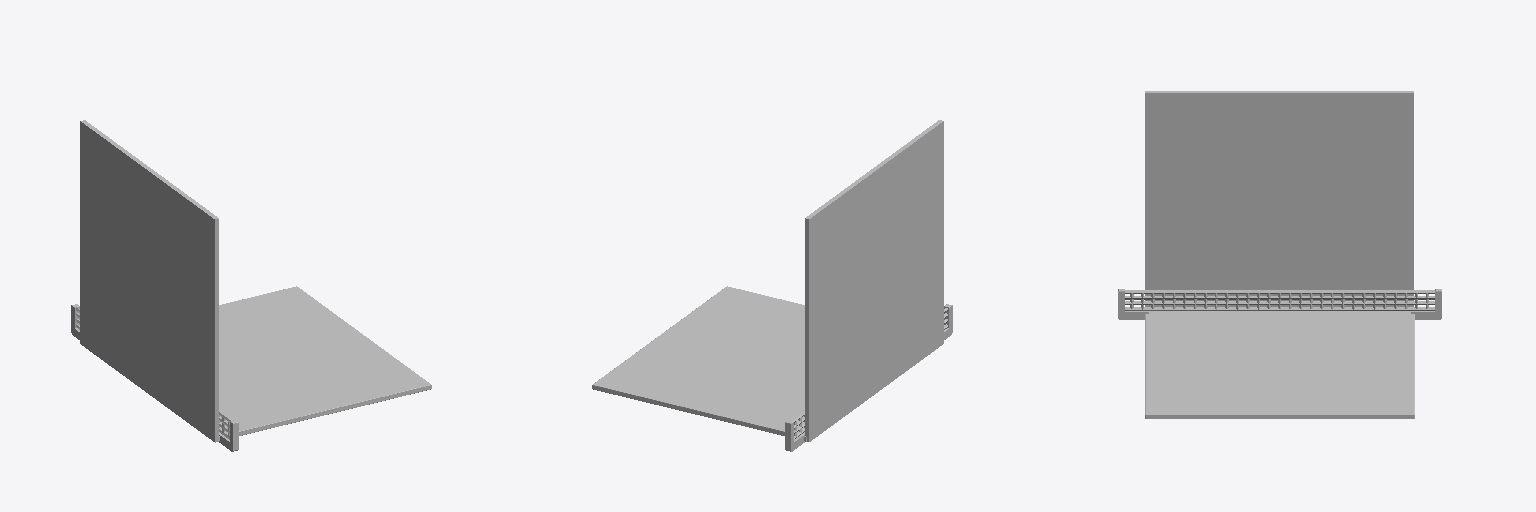
File: TableTennisHalfTable.obj
The picture shows the model from 3 angles: view 1: azimuth 30°, elevation 25°; view 2: azimuth 150°, elevation 25°; view 3: azimuth 270°, elevation 25°; orthographic projection.
Visible parts, largest first — view 1: Object001.001; view 2: Object001.001; view 3: Object001.001.
Boxes of the visible parts, <box> form: Object001.001: <box>71,120,431,451</box>; Object001.001: <box>592,120,952,451</box>; Object001.001: <box>1118,91,1441,418</box>.
Bounding box in the file's own units: 1.42 × 1.41 × 1.84.